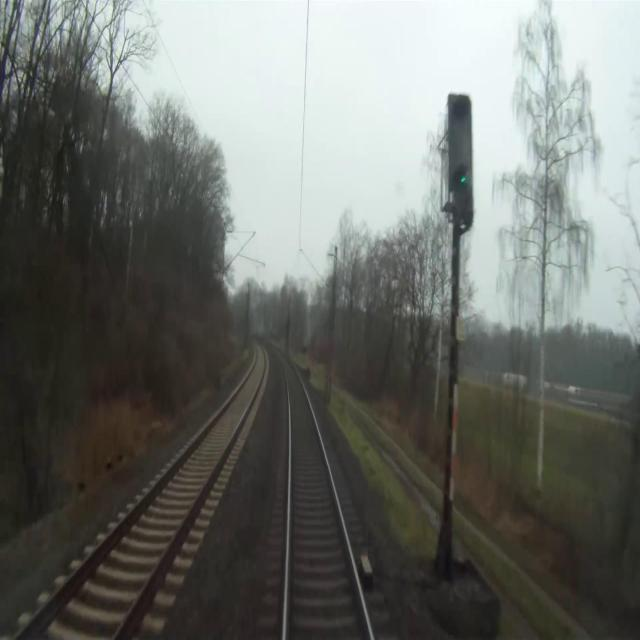rail-track: (19, 345, 264, 639), (279, 353, 369, 639)
